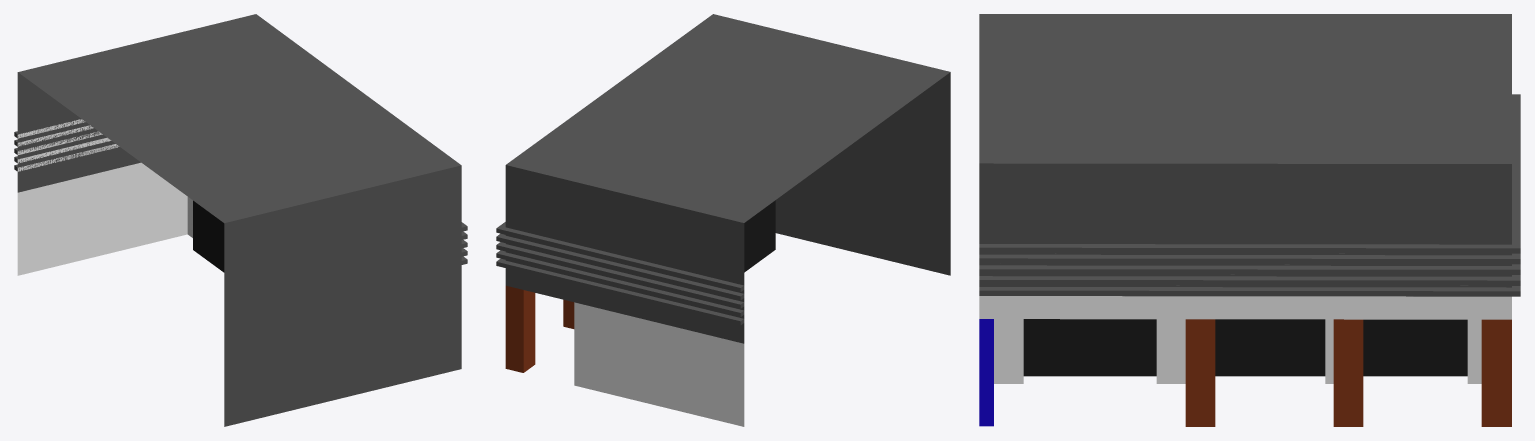
File: Edificio-4.fbx
3 renders of one model, left to right at view 1: azimuth 30°, elevation 25°; view 2: azimuth 150°, elevation 25°; view 3: azimuth 270°, elevation 25°, orthographic. The views are drawn at different scales.
Parts seen in each view (by area): view 1: Plane; view 2: Plane; view 3: Plane.
Boxes of the visible parts, box(x1,y1,x2,y2) form: Plane: box(14, 14, 467, 426); Plane: box(496, 14, 950, 426); Plane: box(979, 14, 1520, 426).
Size of the model in its own units: 1230 by 980 by 1830.
